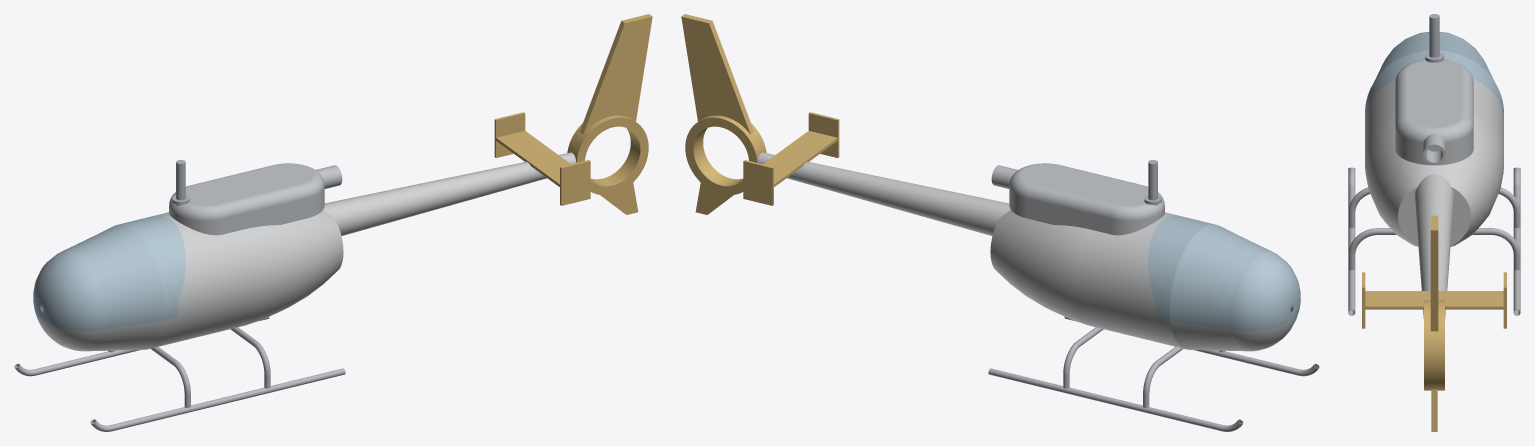
File: step_51.glb
3 views of the same model, side by side, from view 1: azimuth 30°, elevation 25°; view 2: azimuth 150°, elevation 25°; view 3: azimuth 270°, elevation 25° (orthographic). The views are drawn at different scales.
Parts seen in each view (by area): view 1: part__fuselage, part__canopy glazing, part__engine cowling, part__fin and fan duct, part__tail boom, part__horizontal stabiliser, part__skid left, part__skid right; view 2: part__fuselage, part__canopy glazing, part__engine cowling, part__fin and fan duct, part__tail boom, part__horizontal stabiliser, part__skid right, part__skid left; view 3: part__fuselage, part__engine cowling, part__tail boom, part__canopy glazing, part__fin and fan duct, part__horizontal stabiliser, part__cross tube rear, part__skid right, part__skid left, part__cross tube front, part__main rotor mast.
Part boxes in pixels (bbox=[...]): part__fuselage: bbox=[35, 210, 343, 351]; part__canopy glazing: bbox=[33, 215, 185, 331]; part__engine cowling: bbox=[169, 163, 342, 235]; part__fin and fan duct: bbox=[567, 14, 652, 214]; part__tail boom: bbox=[323, 152, 576, 235]; part__horizontal stabiliser: bbox=[494, 112, 590, 205]; part__skid left: bbox=[90, 368, 345, 431]; part__skid right: bbox=[14, 317, 269, 376]; part__fuselage: bbox=[990, 210, 1298, 351]; part__canopy glazing: bbox=[1148, 215, 1300, 331]; part__engine cowling: bbox=[991, 163, 1164, 235]; part__fin and fan duct: bbox=[681, 14, 766, 214]; part__tail boom: bbox=[757, 152, 1010, 235]; part__horizontal stabiliser: bbox=[743, 112, 839, 205]; part__skid right: bbox=[988, 368, 1243, 431]; part__skid left: bbox=[1064, 317, 1319, 376]; part__fuselage: bbox=[1365, 79, 1503, 246]; part__engine cowling: bbox=[1395, 59, 1473, 165]; part__tail boom: bbox=[1414, 174, 1454, 318]; part__canopy glazing: bbox=[1365, 32, 1503, 115]; part__fin and fan duct: bbox=[1424, 215, 1444, 431]; part__horizontal stabiliser: bbox=[1362, 272, 1506, 328]; part__cross tube rear: bbox=[1348, 228, 1520, 270]; part__skid right: bbox=[1513, 167, 1520, 315]; part__skid left: bbox=[1348, 167, 1355, 315]; part__cross tube front: bbox=[1348, 187, 1520, 228]; part__main rotor mast: bbox=[1425, 14, 1443, 62].
Bounding box in the file's own units: 8773 × 3400 × 1980.
